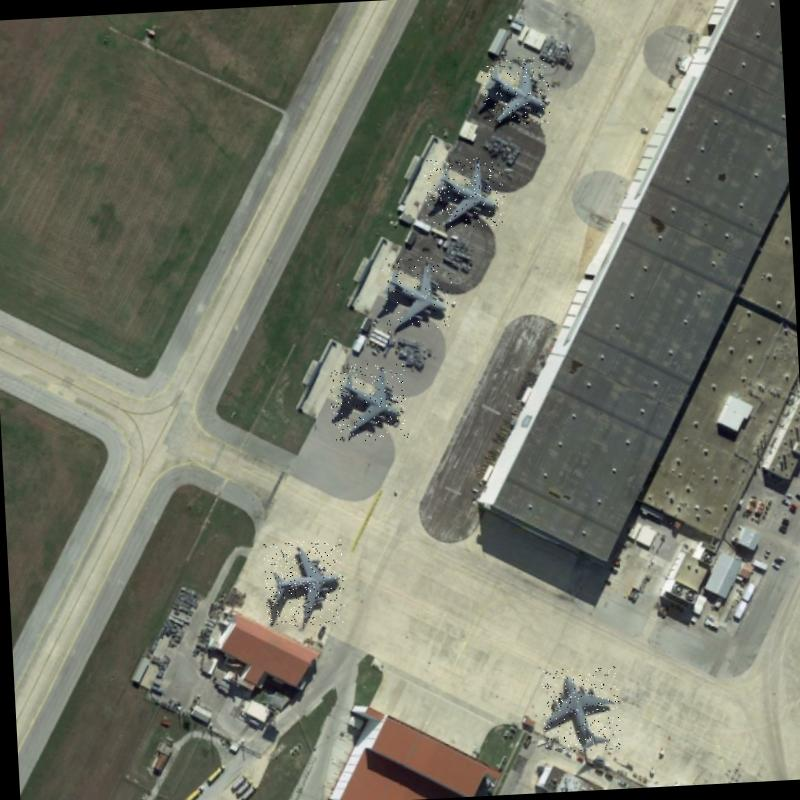A3: (264, 539, 348, 628), (542, 666, 622, 753), (329, 361, 409, 442), (423, 156, 506, 230), (380, 255, 454, 334), (481, 56, 550, 126)
